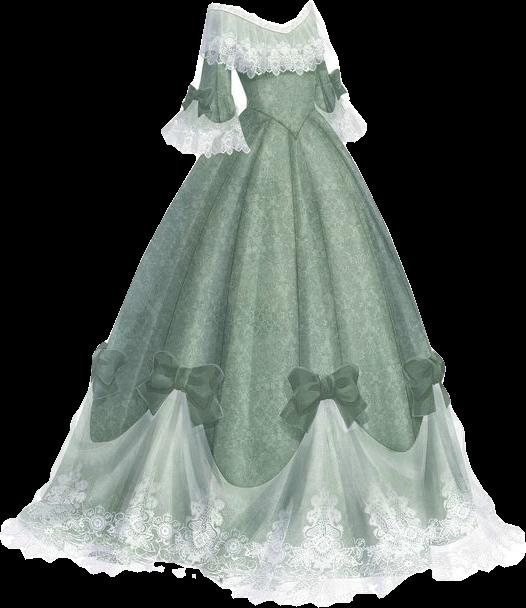Bodice: (234, 5, 324, 139)
Hemline: (86, 371, 443, 489), (0, 526, 525, 606)
Neckline: (237, 3, 306, 29)
Skirt: (1, 106, 524, 606)
Sleeve: (161, 3, 254, 159)
Sleeveline: (208, 0, 245, 47)
Waistline: (243, 104, 319, 143), (237, 63, 318, 80)
